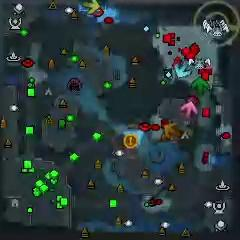Other: (124, 133, 138, 148)
x1: (181, 101, 197, 118)
x2: (83, 0, 99, 16)
x3: (174, 61, 191, 78)
x4: (192, 77, 208, 95)
x5: (164, 123, 180, 138)
